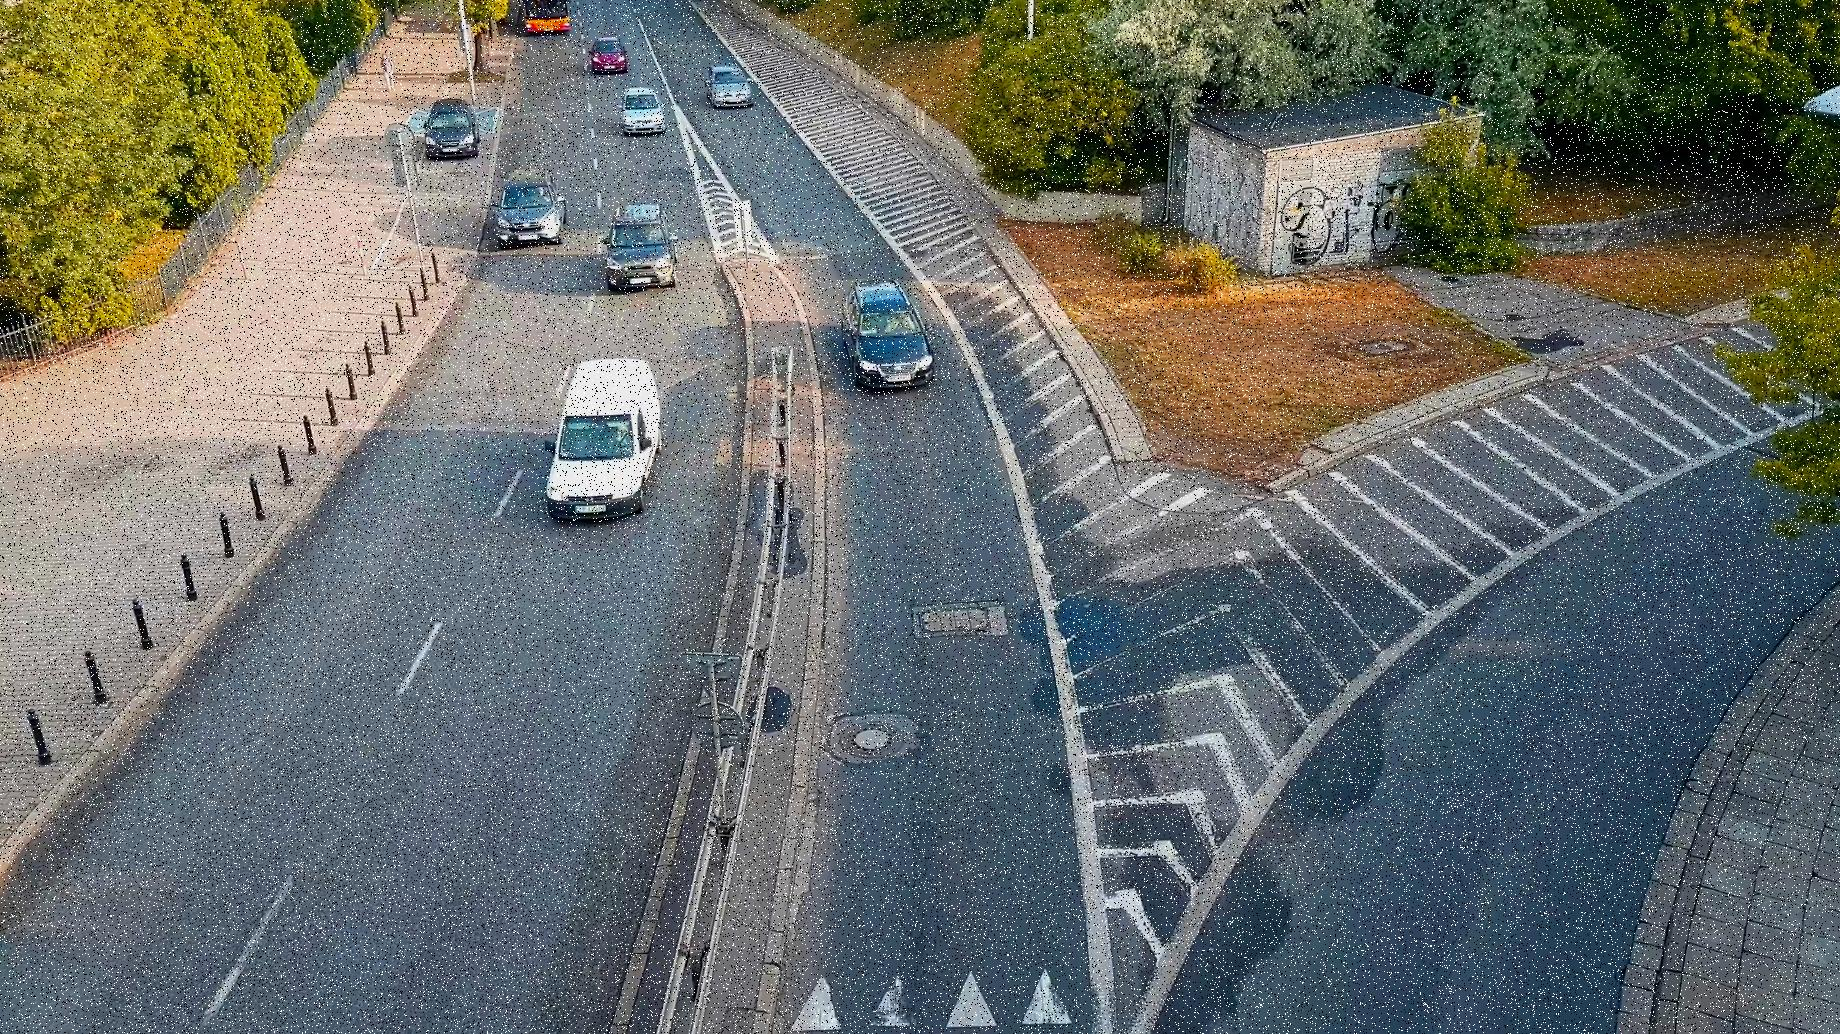bus: (518, 0, 572, 35)
car: (530, 334, 676, 533), (832, 271, 940, 403), (489, 159, 578, 246), (602, 198, 685, 287), (421, 95, 481, 161), (613, 83, 676, 140), (705, 61, 757, 113), (580, 25, 632, 76)
